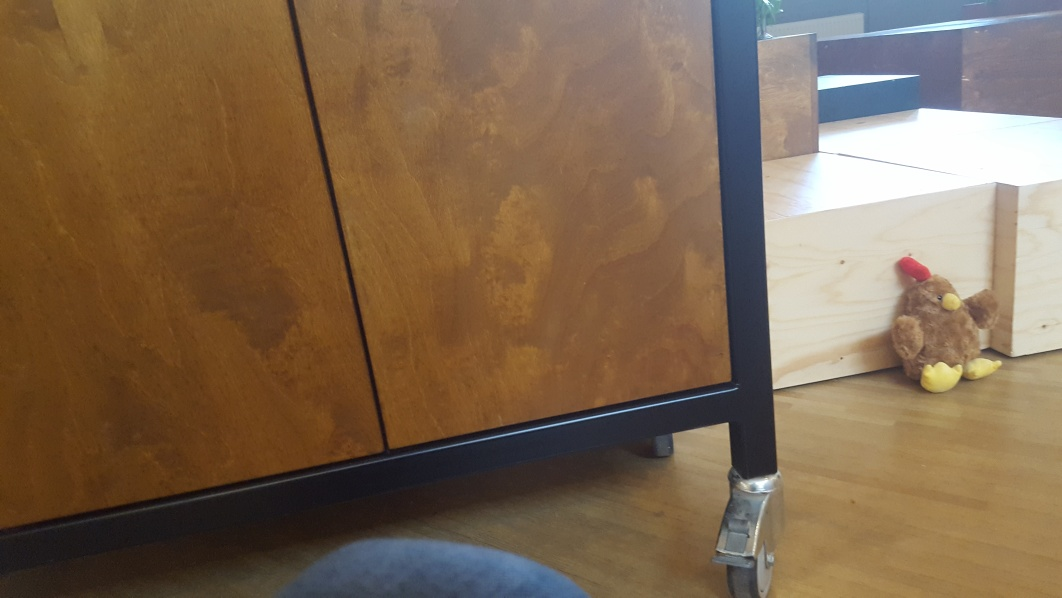chicken: (883, 257, 1005, 397)
